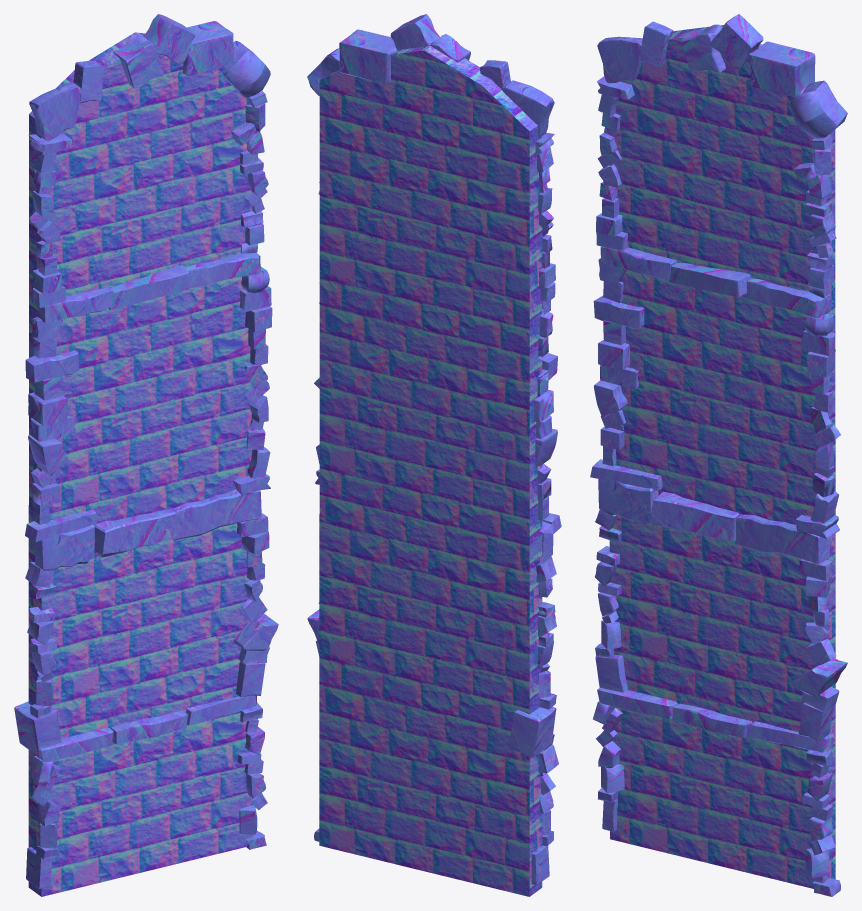
The model's file is TOWER_FACADE_LOD1.fbx.
The picture shows the model from 3 angles, left to right: view 1: azimuth 30°, elevation 25°; view 2: azimuth 150°, elevation 25°; view 3: azimuth 330°, elevation 25°; orthographic projection.
Parts seen in each view (by area): view 1: TOWER_FACADE; view 2: TOWER_FACADE; view 3: TOWER_FACADE.
Boxes of the visible parts, left/top/right/bottom form: TOWER_FACADE: left=14, top=14, right=278, bottom=896; TOWER_FACADE: left=307, top=14, right=561, bottom=896; TOWER_FACADE: left=590, top=14, right=847, bottom=896.
Bounding box in the file's own units: 1038 × 3479 × 195.
1 material, 1 textured.
